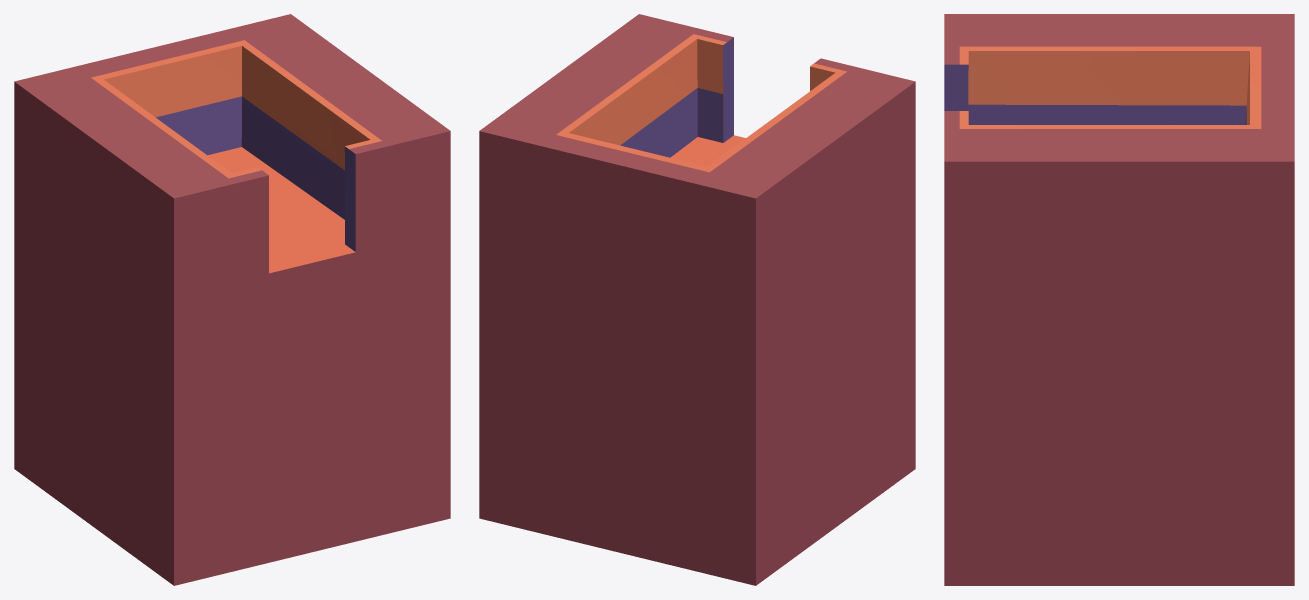
The model's file is elevator.fbx.
3 views of the same model, side by side, from view 1: azimuth 30°, elevation 25°; view 2: azimuth 150°, elevation 25°; view 3: azimuth 270°, elevation 25° (orthographic). The views are drawn at different scales.
Parts seen in each view (by area): view 1: spawn; view 2: spawn; view 3: spawn.
Part boxes in pixels (x1,y1,x2,y2): spawn: [14, 14, 450, 585]; spawn: [479, 14, 915, 585]; spawn: [944, 14, 1294, 585].
Bounding box in the file's own units: 22 × 29.43 × 22.02.
1 material, 1 textured.
